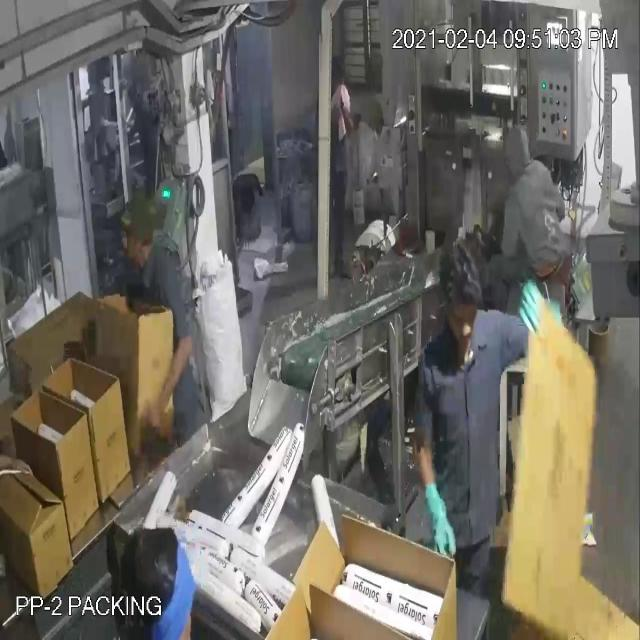gloves: (414, 457, 462, 560), (515, 270, 557, 340)
no-gloves: (148, 298, 192, 448)
